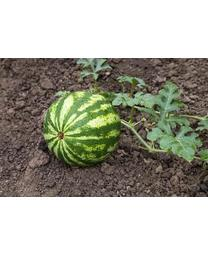watermelon: (44, 89, 120, 166)
